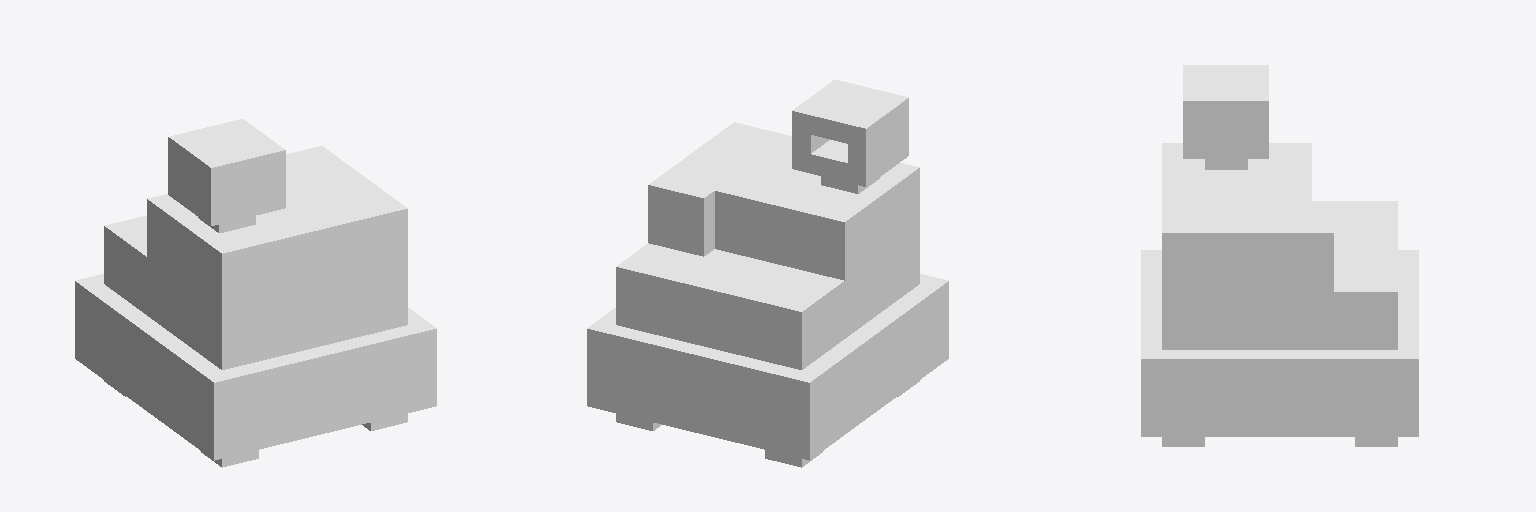
File: Till.obj
3 renders of one model, left to right at view 1: azimuth 30°, elevation 25°; view 2: azimuth 150°, elevation 25°; view 3: azimuth 270°, elevation 25°, orthographic.
Visible parts, largest first — view 1: object 1; view 2: object 1; view 3: object 1.
Part boxes in pixels (x1,y1,x2,y2): object 1: (75, 119, 436, 467); object 1: (587, 80, 948, 467); object 1: (1141, 65, 1418, 446).
Size of the model in its own units: 1.2 by 1.5 by 1.3.